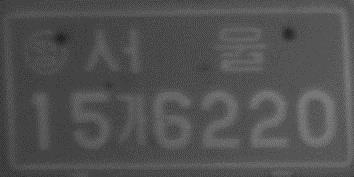0: (296, 88, 338, 149)
1: (25, 91, 57, 153)
2: (200, 89, 244, 152), (247, 87, 289, 150)
5: (68, 91, 115, 152)
6: (151, 88, 193, 151)
가: (115, 91, 151, 149)
서울_D: (81, 22, 269, 79)
영: (23, 25, 71, 77)
